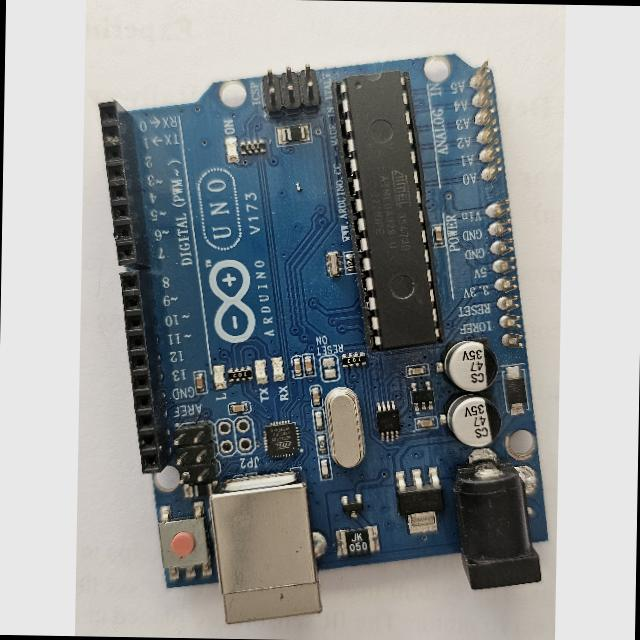missing_analog_pins: (465, 57, 530, 353)
